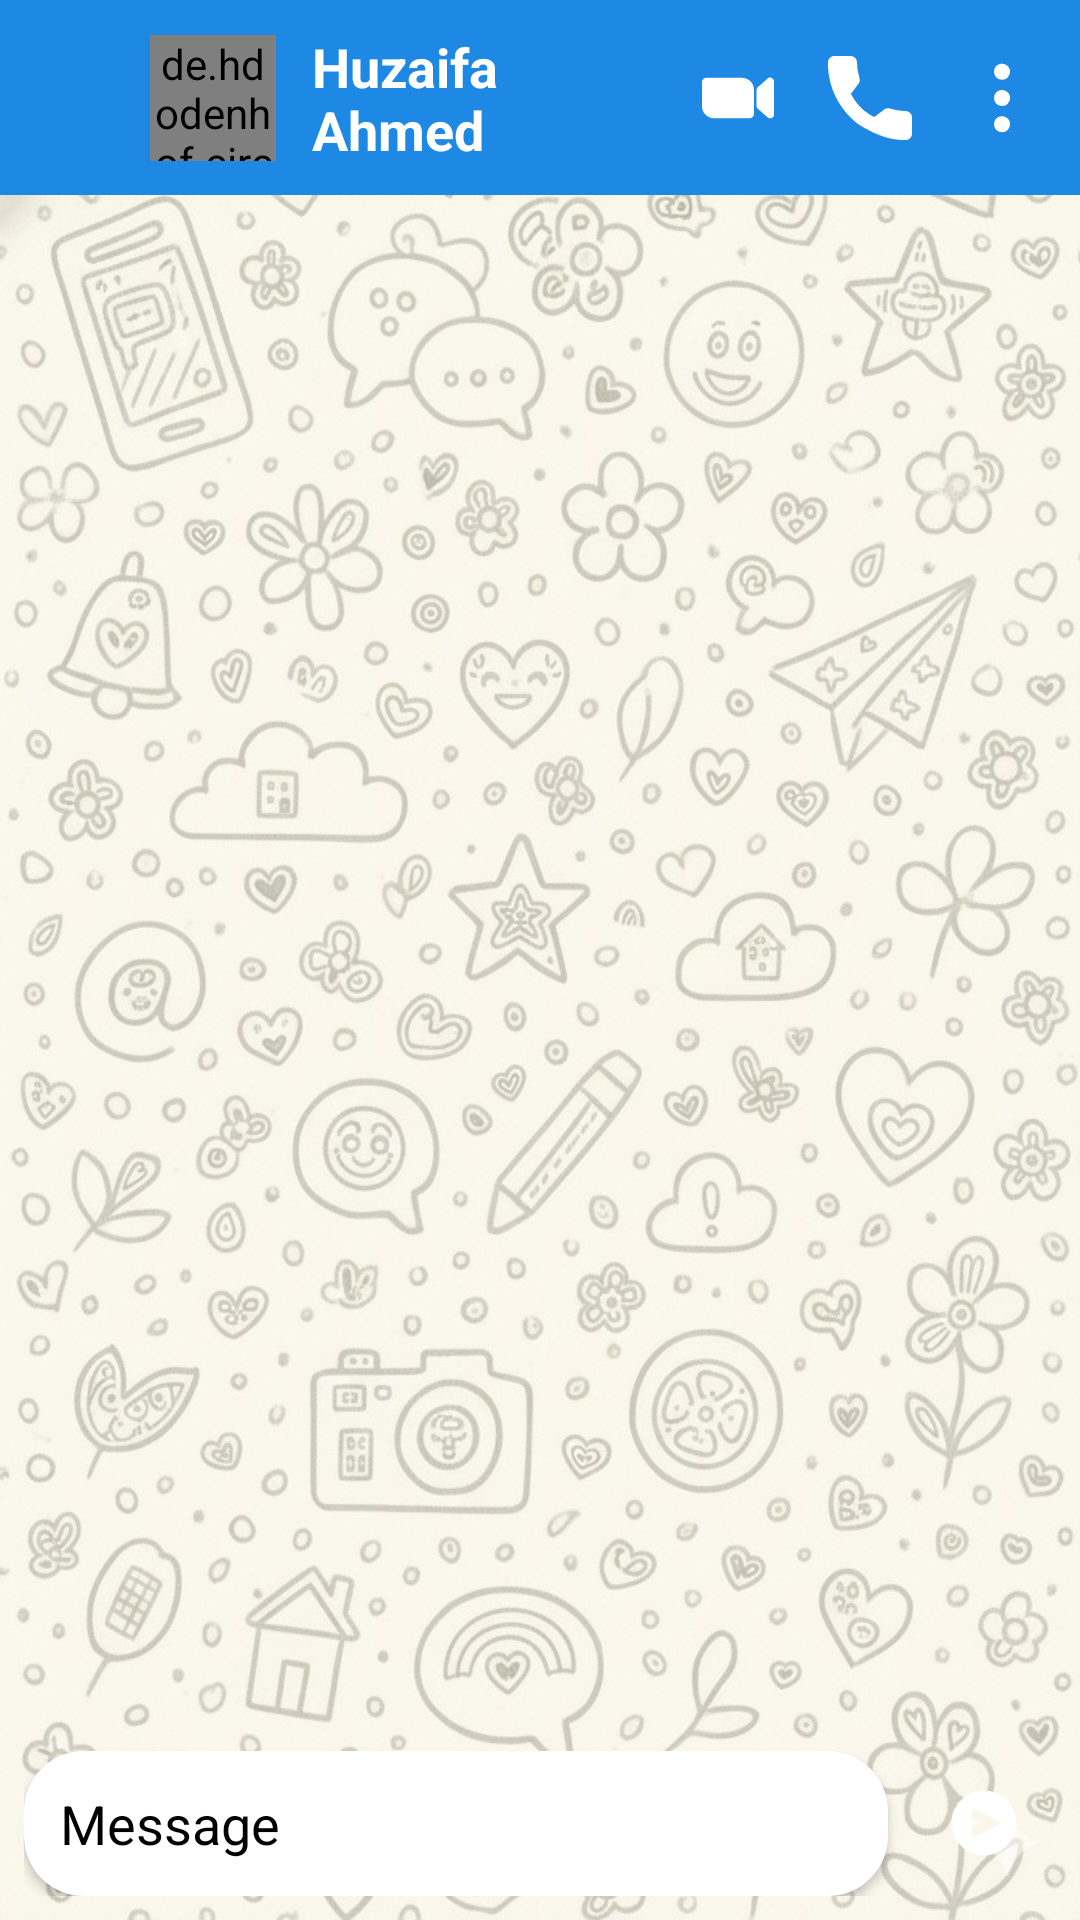

Named icons in this screenshot (1080 × 1920) and their centers, (x,y):
call: (870,98)
menu: (1002,98)
video call: (738,98)
